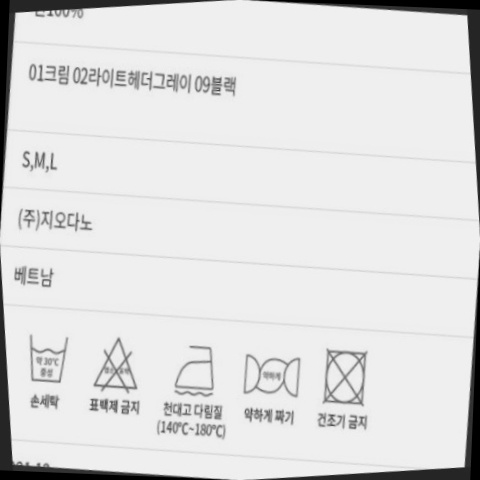30C: (17, 322, 82, 391)
DN_tumble_dry: (309, 336, 383, 415)
iron: (232, 340, 313, 406), (162, 330, 230, 404)
non_chlorine_bleach: (84, 324, 156, 401)
